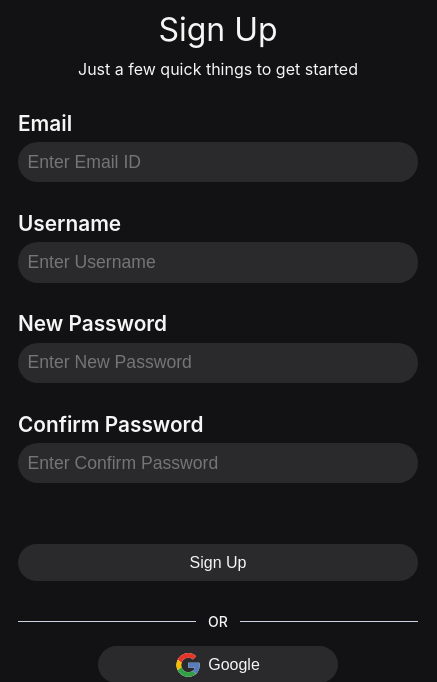
Test case: register › should display an error message when username is too short
The image size is (437, 682).
Type "a" into the field labelled "Username" at (218, 262), box [18, 242, 418, 282]
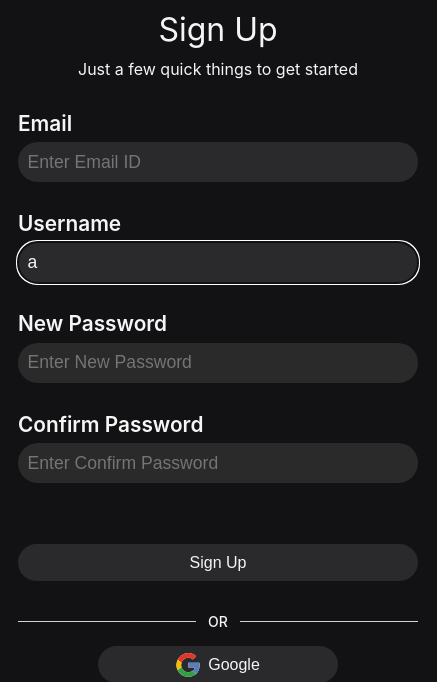
Click the button "Sign Up" at (218, 563), box [18, 544, 418, 581]
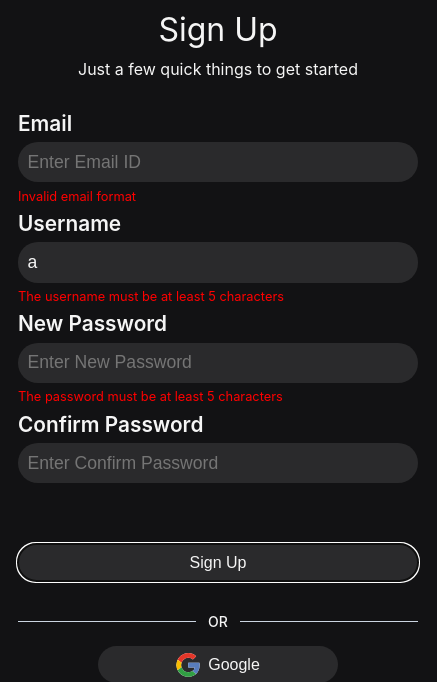
Check: the text "The username must be at least 5 characters" is shown, box [18, 289, 284, 304]
